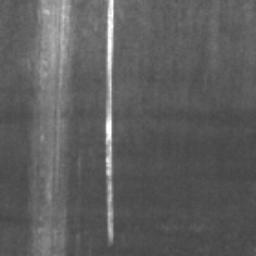Bright scratch: (36, 0, 70, 256), (105, 0, 113, 247)
